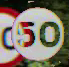Speed limit: (8, 7, 62, 62)
